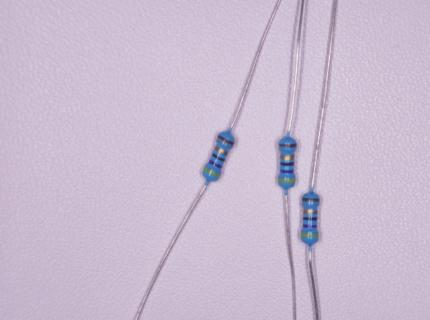Gold band: (214, 146, 229, 155), (303, 209, 318, 214), (281, 155, 294, 160)
Violet band: (208, 159, 222, 169), (280, 169, 294, 173), (303, 224, 317, 228)
Yellow band: (203, 166, 221, 178), (278, 178, 295, 183), (301, 233, 319, 237)
